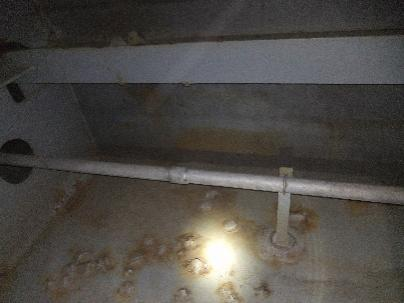corrosion: (121, 230, 203, 284), (175, 129, 285, 161), (45, 250, 112, 288), (193, 196, 250, 239), (206, 274, 285, 302), (286, 206, 323, 250)
